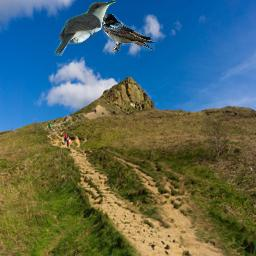Cuckoo: (54, 0, 117, 56)
Swallow: (102, 14, 155, 52)
